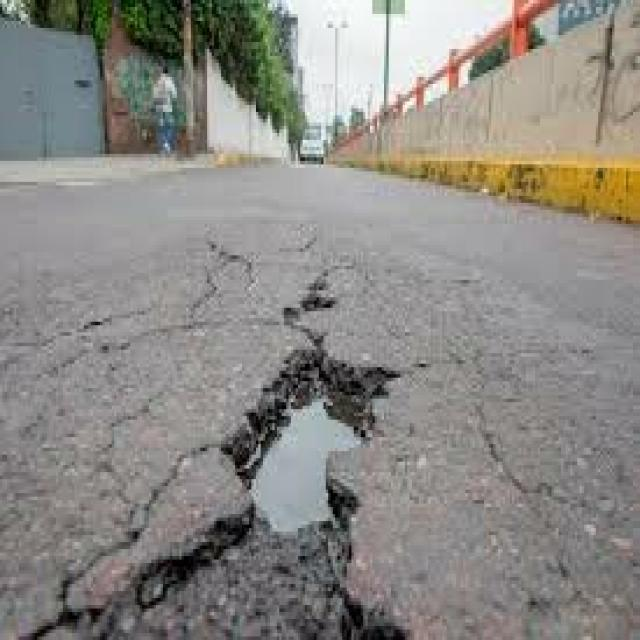Pothole: (116, 238, 452, 640)
